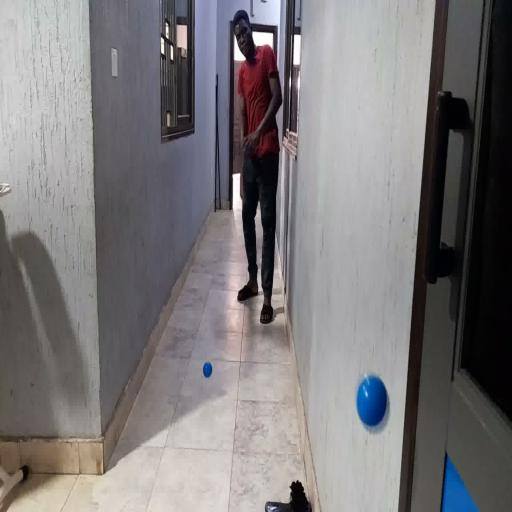plastic-ball: (355, 369, 390, 435)
